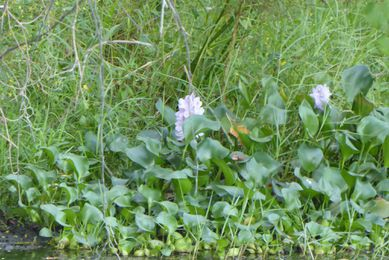water_hyacinth: (15, 75, 386, 249)
